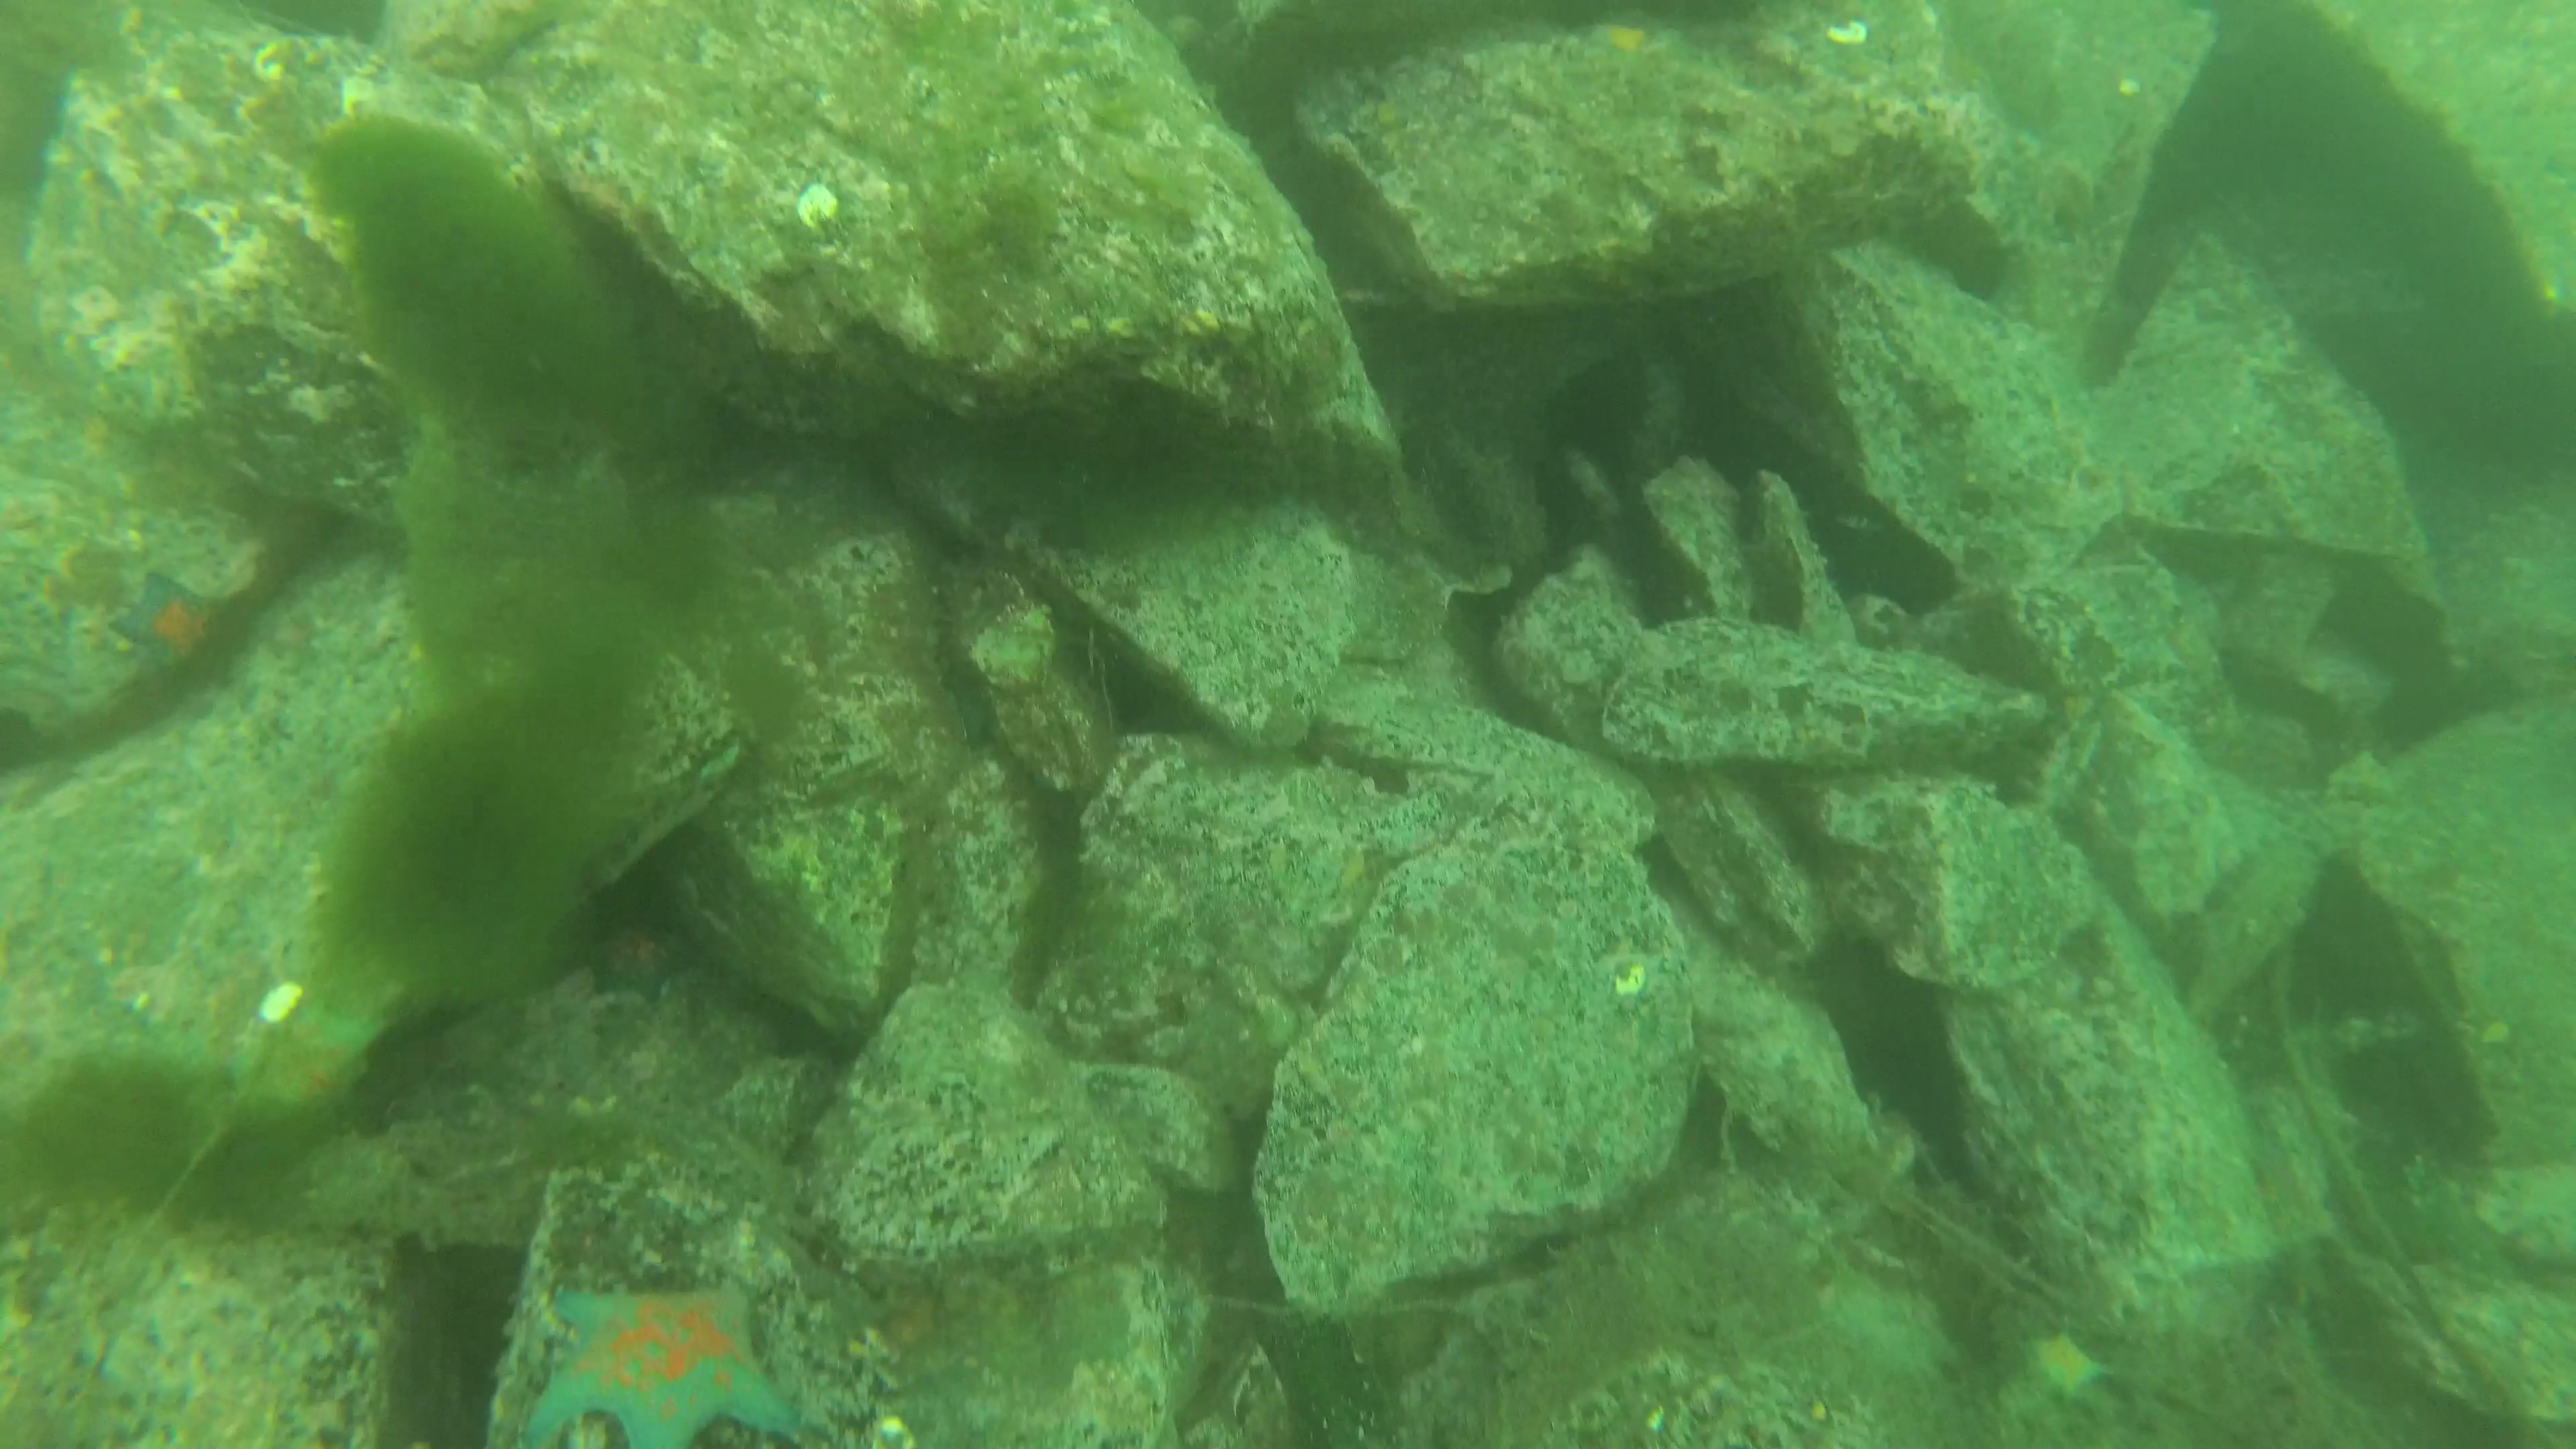starfish: (520, 1286, 796, 1449), (225, 1003, 389, 1132), (106, 577, 226, 683), (580, 916, 699, 1007), (2020, 1327, 2118, 1407)
